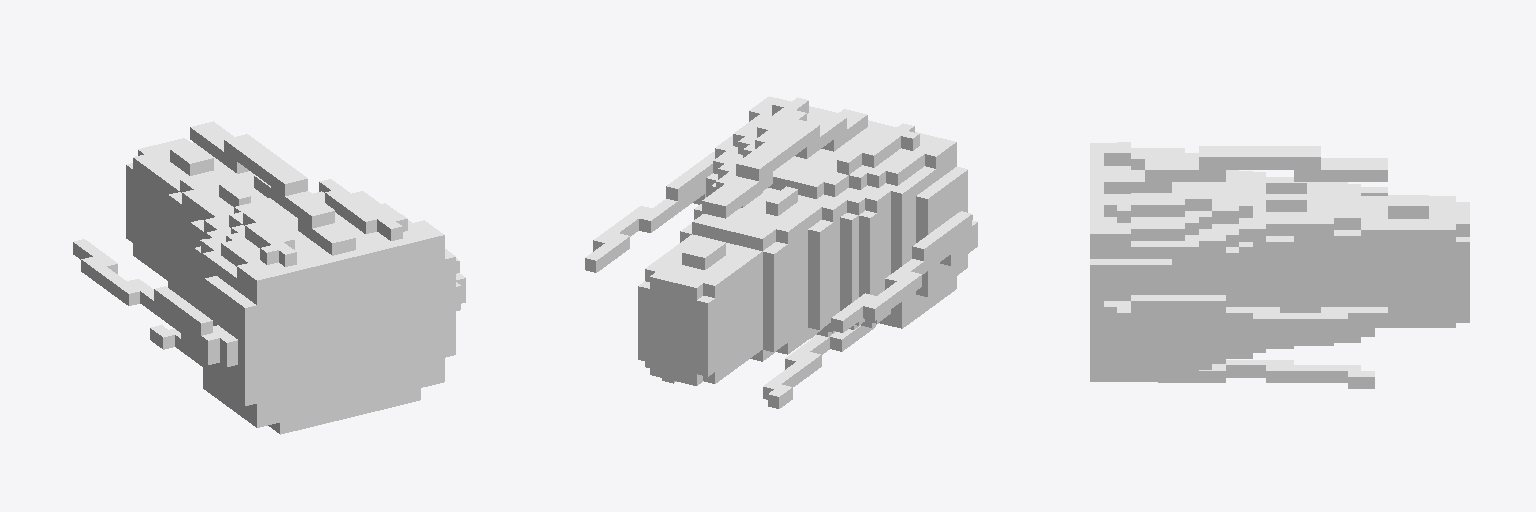
The model's file is monster_fish_tail_base.obj.
The picture shows the model from 3 angles: view 1: azimuth 30°, elevation 25°; view 2: azimuth 150°, elevation 25°; view 3: azimuth 270°, elevation 25°; orthographic projection.
Visible parts, largest first — view 1: object 1; view 2: object 1; view 3: object 1.
Part boxes in pixels (x1,y1,x2,y2): object 1: (73, 121, 465, 434); object 1: (585, 96, 977, 408); object 1: (1090, 142, 1469, 388).
Bounding box in the file's own units: 2.4 × 1.7 × 2.8.